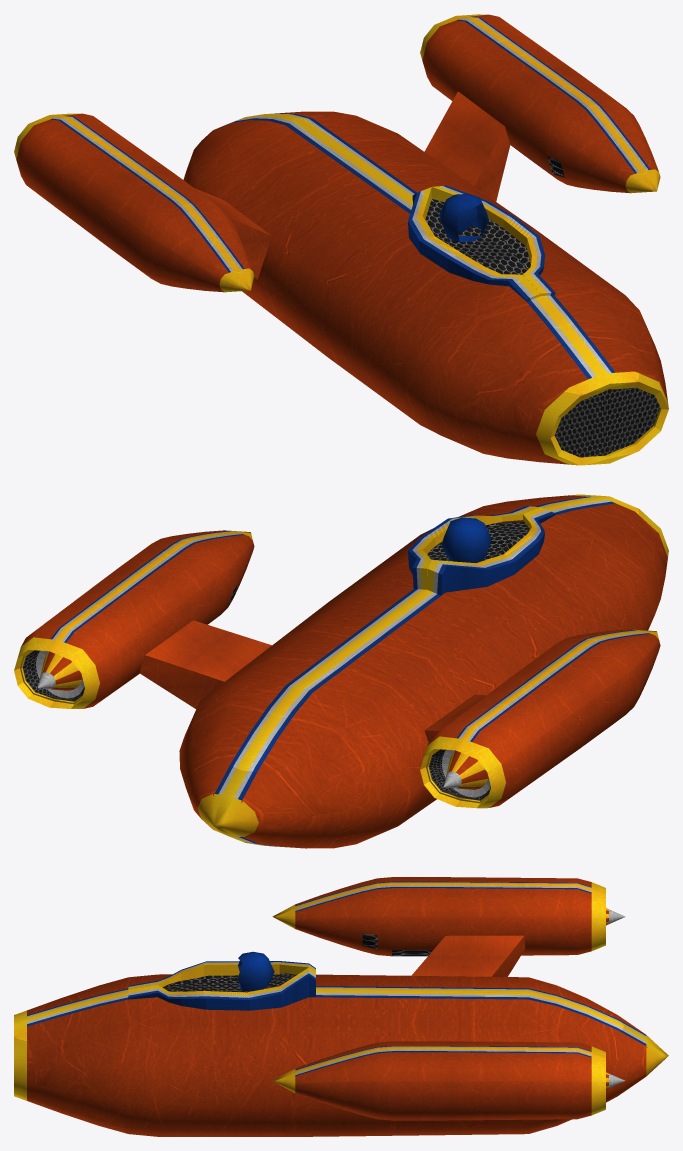
Rendered from racer.FBX.
3 views of the same model, one above another, from view 1: azimuth 30°, elevation 25°; view 2: azimuth 150°, elevation 25°; view 3: azimuth 270°, elevation 25° (orthographic). The views are drawn at different scales.
Visible parts, largest first — view 1: ShipBody, CockpitInterior, Helmet; view 2: ShipBody, Helmet, CockpitInterior; view 3: ShipBody, CockpitInterior, Helmet.
Boxes of the visible parts, x1,y1,x2,y2 form: ShipBody: [14, 14, 668, 465]; CockpitInterior: [425, 199, 530, 274]; Helmet: [439, 194, 489, 241]; ShipBody: [14, 494, 668, 848]; Helmet: [441, 517, 491, 562]; CockpitInterior: [427, 521, 529, 561]; ShipBody: [14, 877, 668, 1136]; CockpitInterior: [164, 973, 296, 992]; Helmet: [238, 951, 274, 991].
Bounding box in the file's own units: 76.05 × 30.59 × 104.
Materials: 8 (8 with a texture image).
